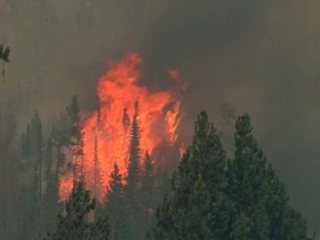fire: (53, 50, 186, 203)
